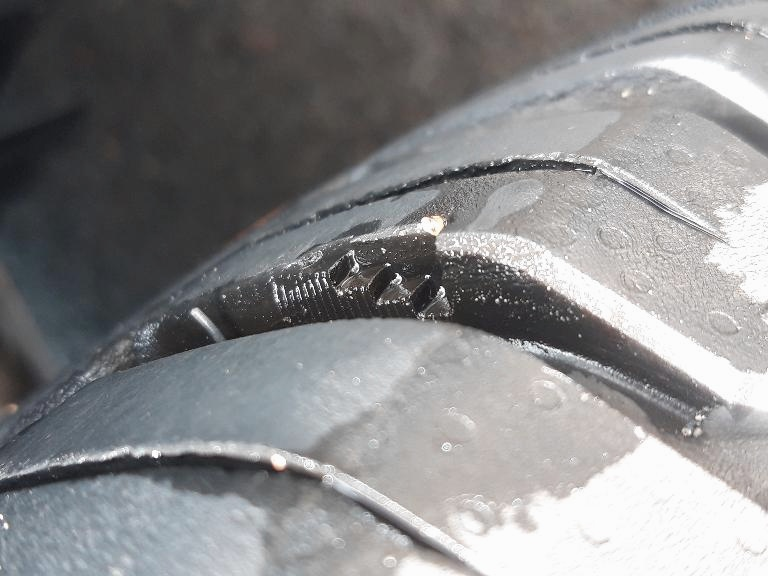temoin:80: (266, 209, 459, 334)
